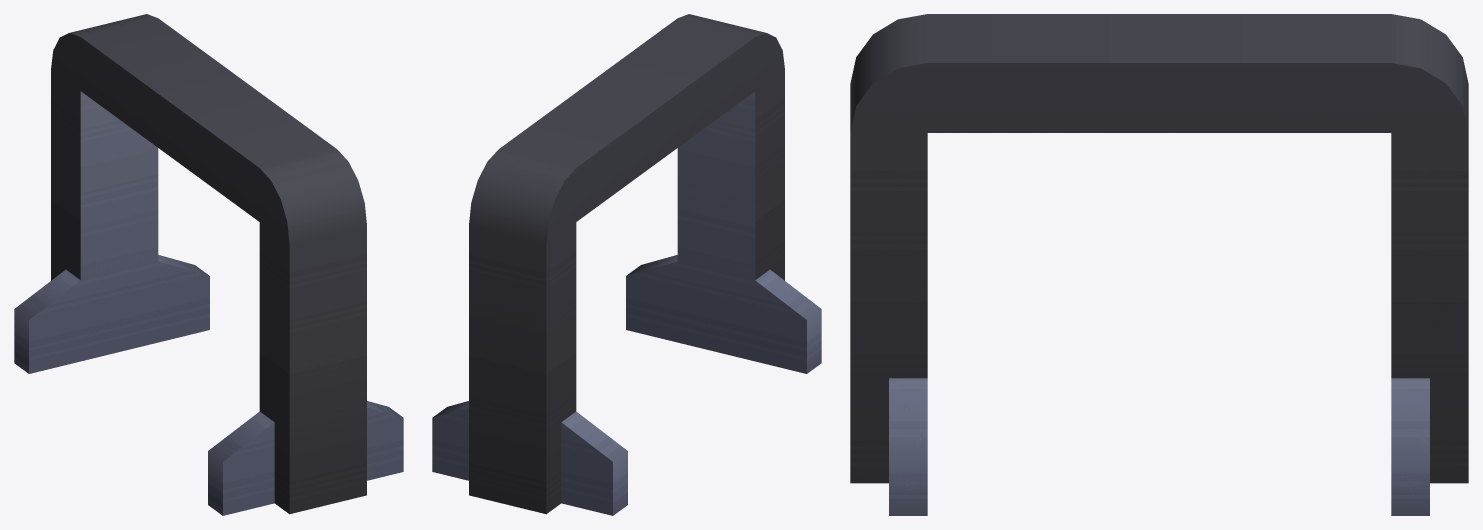
Rendered from scanner-high.glb.
3 renders of one model, left to right at view 1: azimuth 30°, elevation 25°; view 2: azimuth 150°, elevation 25°; view 3: azimuth 270°, elevation 25°, orthographic. The views are drawn at different scales.
Visible parts, largest first — view 1: scanner-high; view 2: scanner-high; view 3: scanner-high.
Boxes of the visible parts, <box> form: scanner-high: <box>14,14,403,515</box>; scanner-high: <box>432,14,821,515</box>; scanner-high: <box>850,14,1468,515</box>.
Bounding box in the file's own units: 0.7 × 1.2 × 1.6.
Materials: 1 (1 with a texture image).
